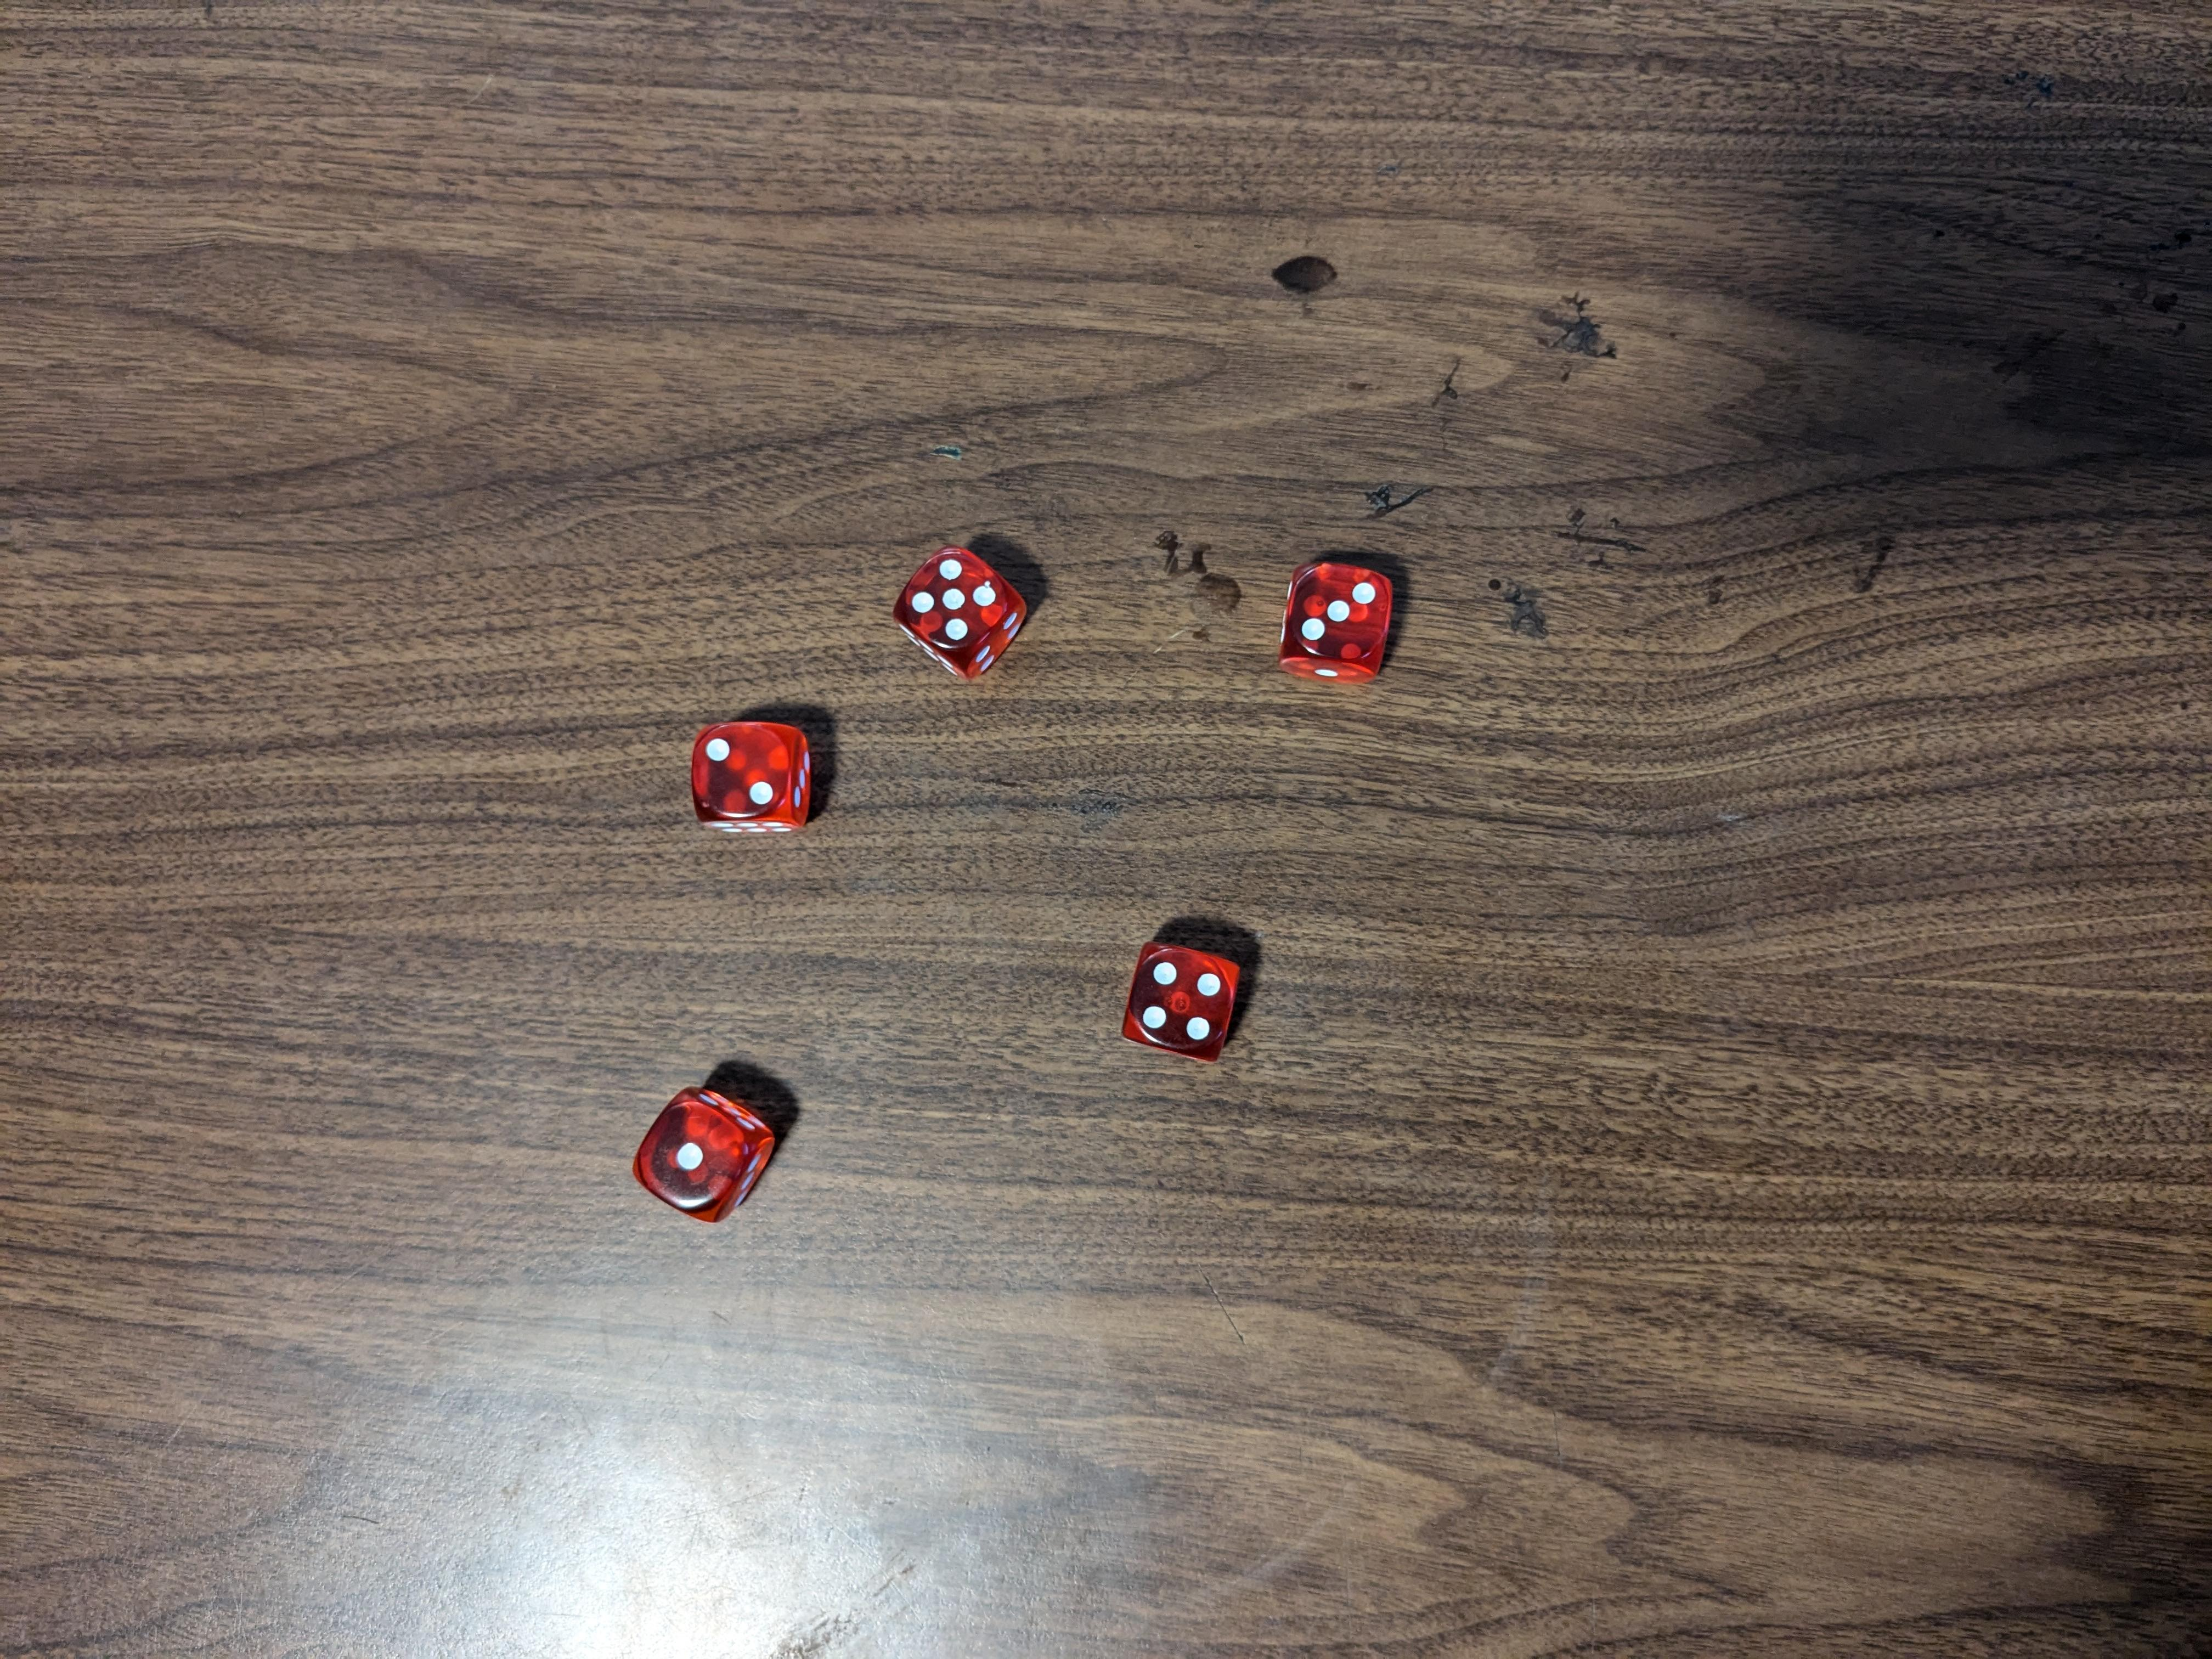five: (890, 545, 1038, 673)
four: (1115, 938, 1254, 1063)
one: (627, 1094, 775, 1229)
three: (1280, 563, 1399, 687)
two: (685, 720, 819, 835)
